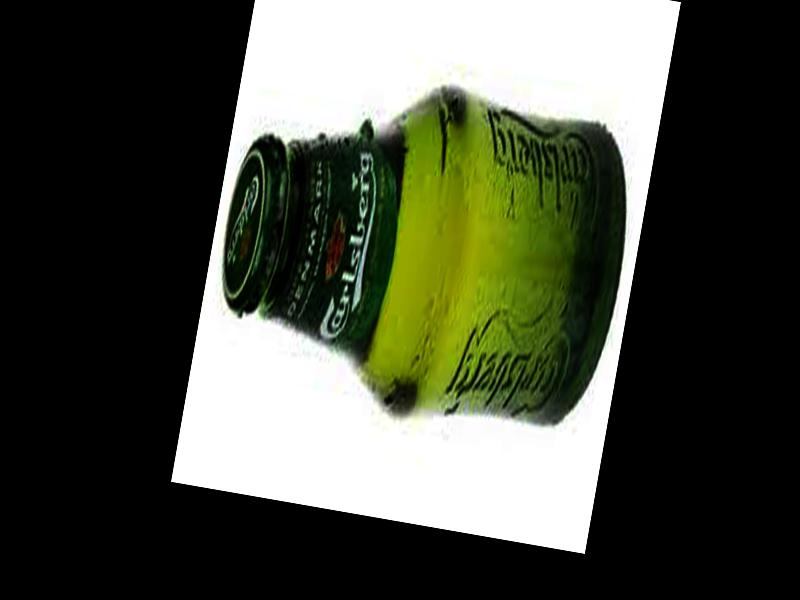Beer: (202, 56, 648, 441)
